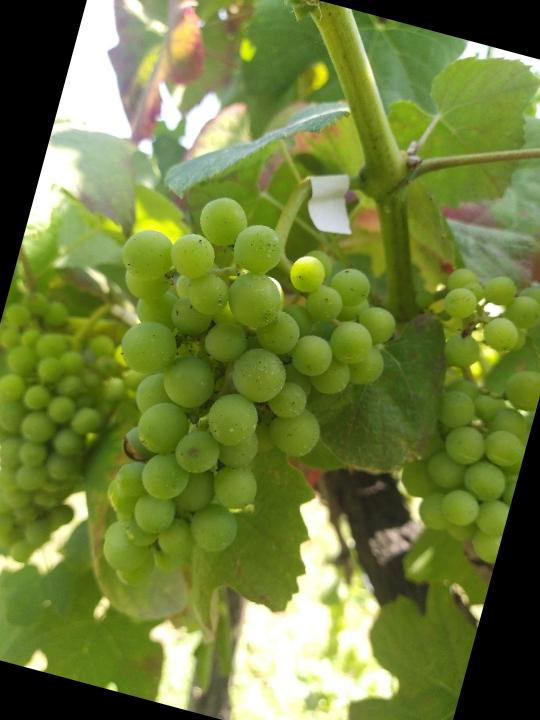grape: (32, 168, 418, 636), (0, 285, 157, 582)
